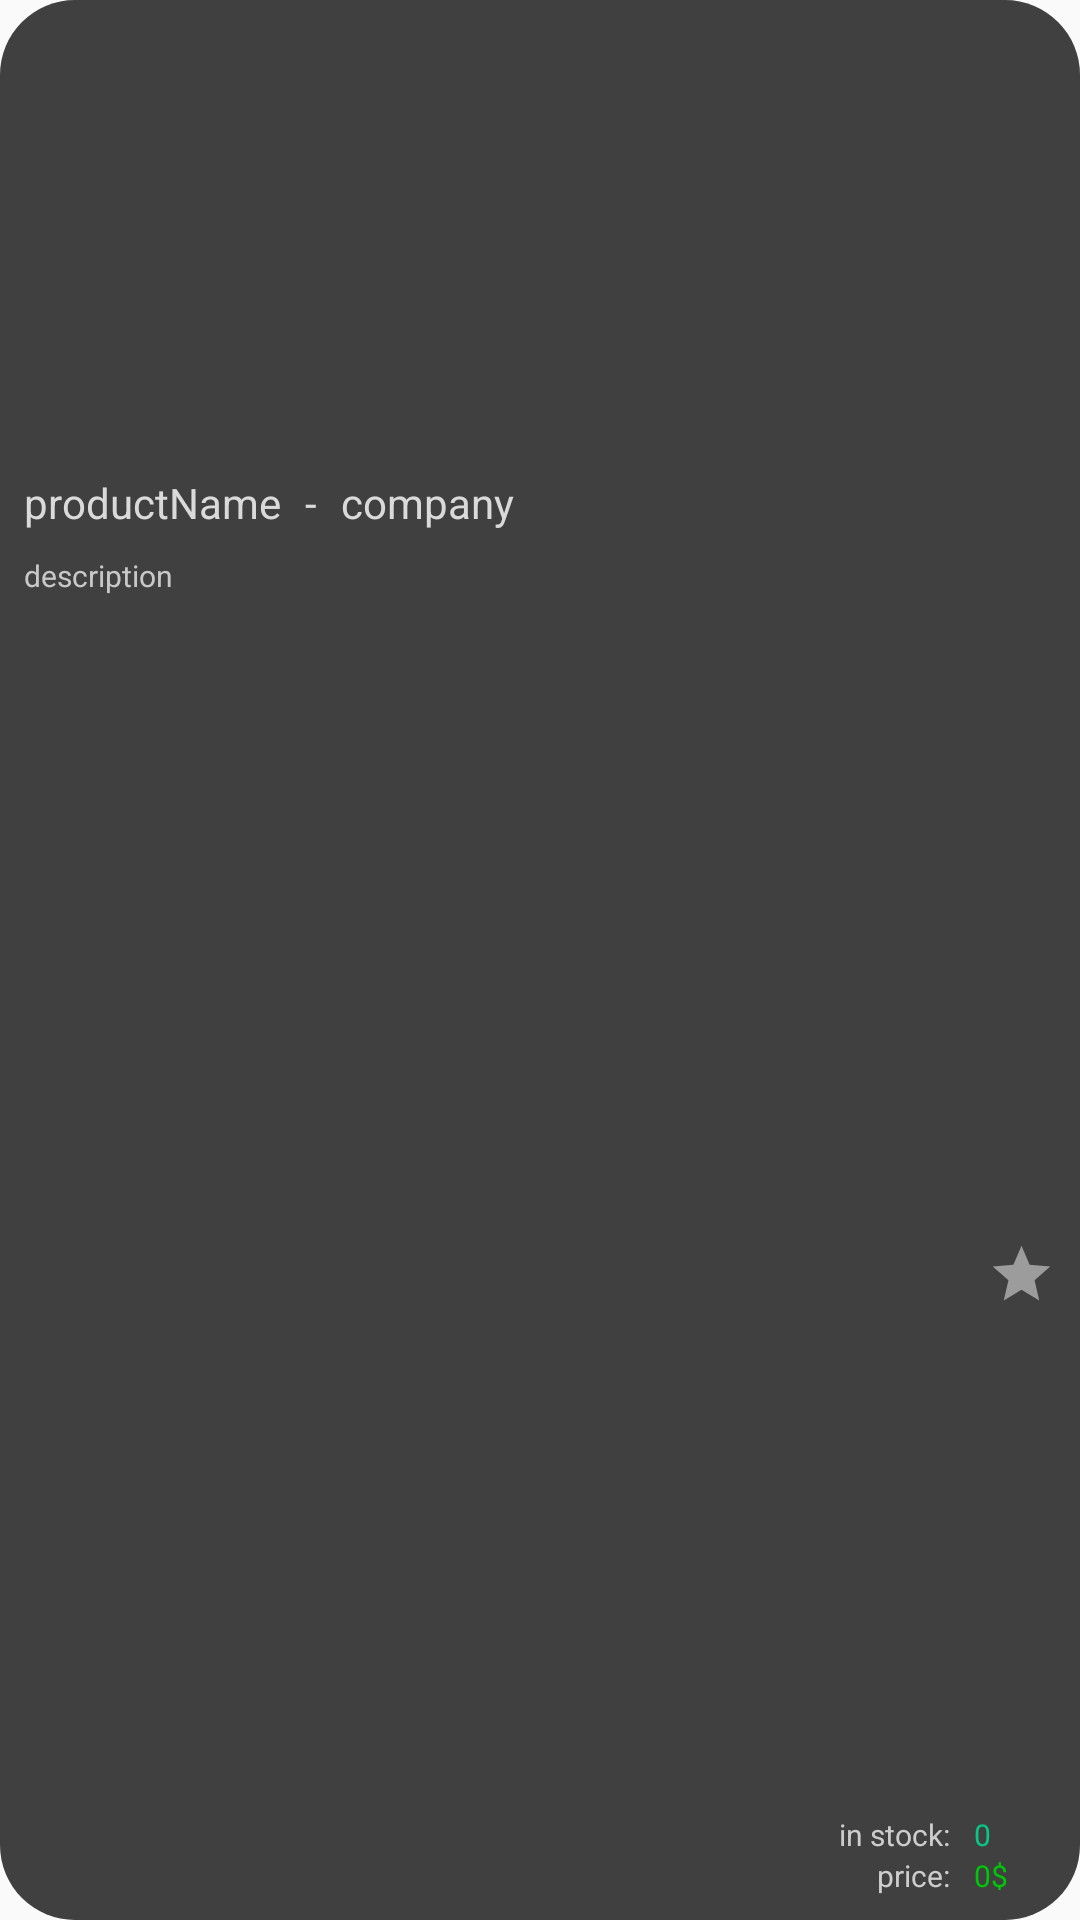

Screen size 1080x1920. Icon name, then its center in pixels as point (x, y):
star: point (1021, 1273)
